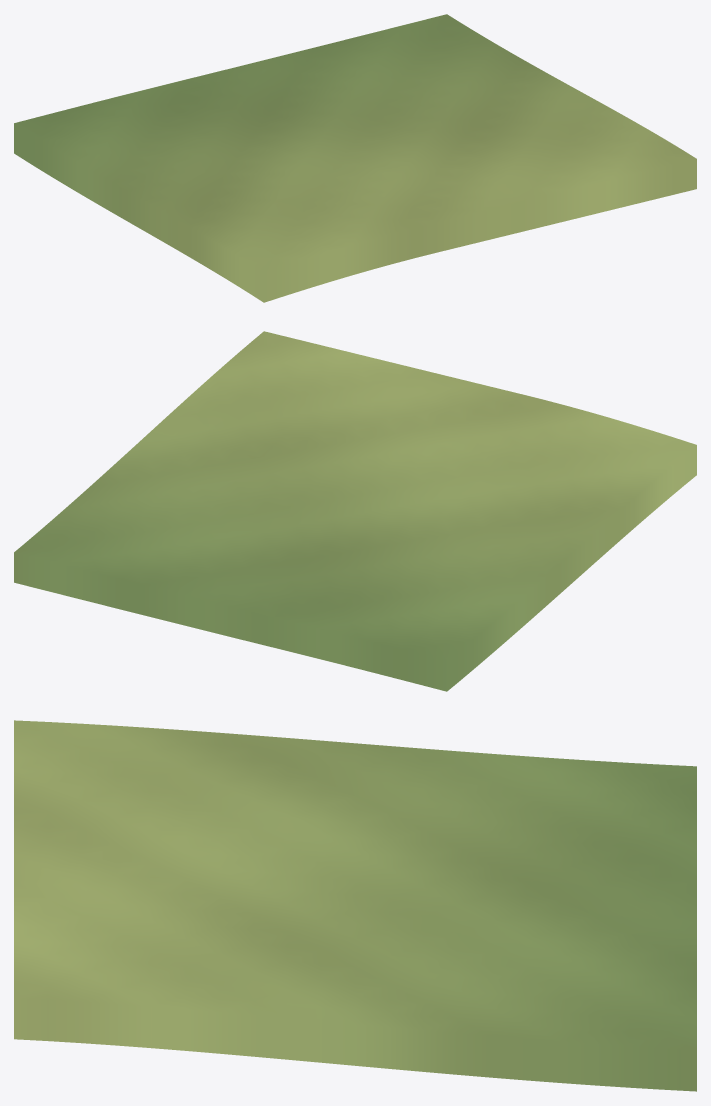
The picture shows the model from 3 angles, top to bottom: view 1: azimuth 30°, elevation 25°; view 2: azimuth 150°, elevation 25°; view 3: azimuth 270°, elevation 25°; orthographic projection. The views are drawn at different scales.
Parts seen in each view (by area): view 1: terrain; view 2: terrain; view 3: terrain.
Boxes of the visible parts, <box> form: terrain: <box>14,14,696,302</box>; terrain: <box>14,331,696,691</box>; terrain: <box>14,720,696,1091</box>.
Bounding box in the file's own units: 30 × 4.76 × 30.
